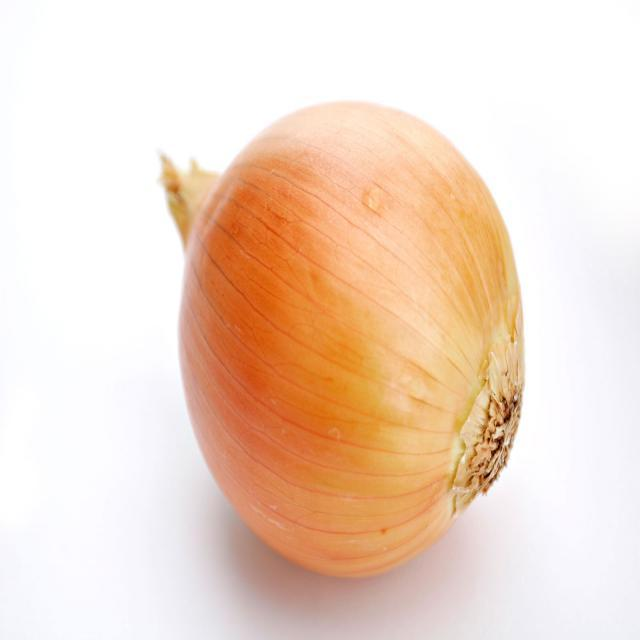onion: (163, 98, 529, 580)
